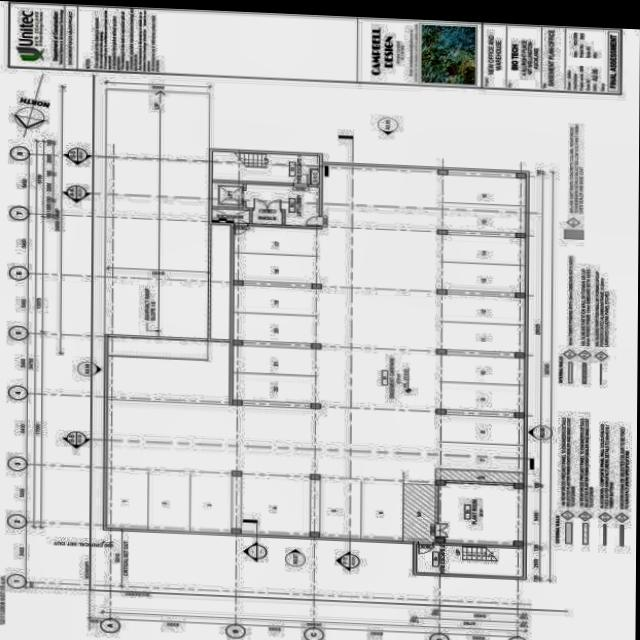room: (436, 482, 526, 545), (211, 151, 320, 184), (416, 543, 524, 576), (245, 183, 320, 226), (212, 181, 244, 207), (212, 208, 249, 222), (252, 209, 282, 224)
